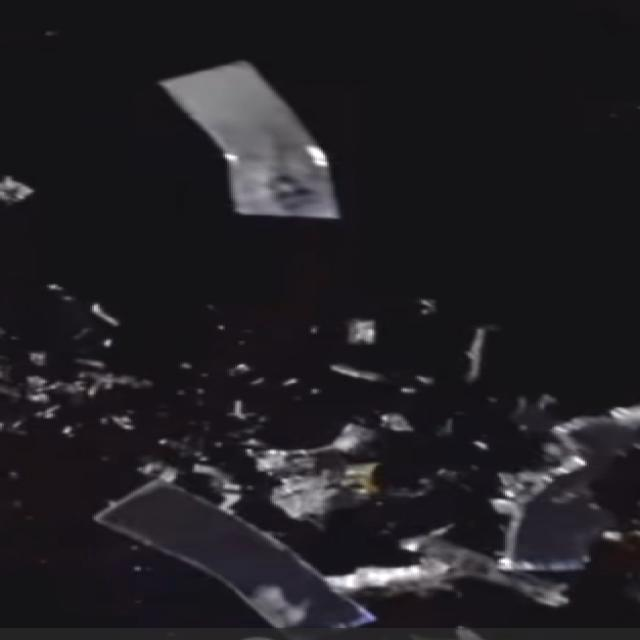large_debris: (72, 456, 397, 640), (145, 46, 387, 242), (470, 397, 640, 594)
